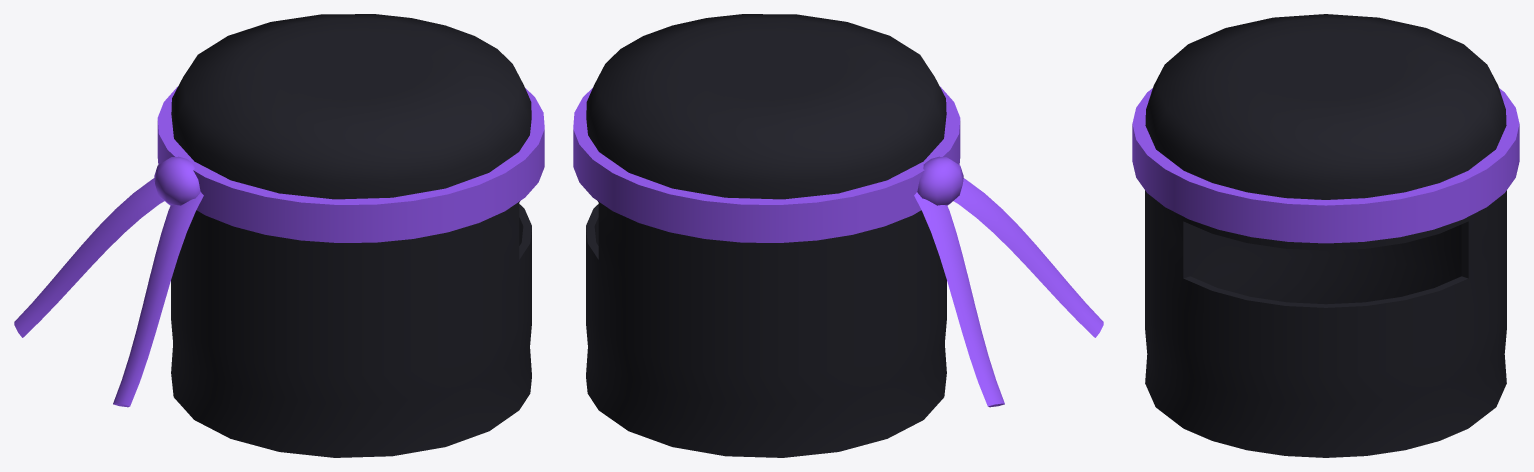
File: acc_ninja.glb
3 renders of one model, left to right at view 1: azimuth 30°, elevation 25°; view 2: azimuth 150°, elevation 25°; view 3: azimuth 270°, elevation 25°, orthographic.
Visible parts, largest first — view 1: NinjaHood; view 2: NinjaHood; view 3: NinjaHood.
Boxes of the visible parts, x1=… form: NinjaHood: x1=14, y1=14, x2=544, y2=457; NinjaHood: x1=573, y1=14, x2=1103, y2=457; NinjaHood: x1=1132, y1=14, x2=1519, y2=457.
Size of the model in its own units: 0.6601 by 0.439 by 0.49.
